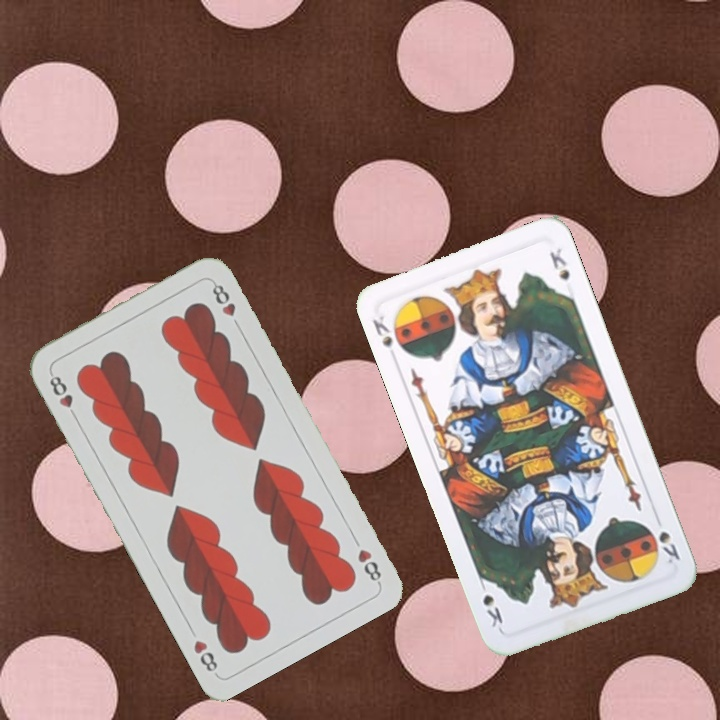H8: (45, 368, 81, 422), (353, 544, 384, 586)
SK: (645, 523, 683, 566), (368, 312, 395, 350)
